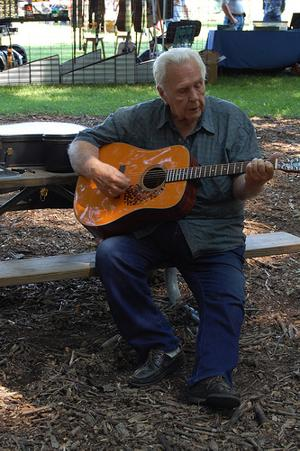person: (68, 46, 281, 408)
